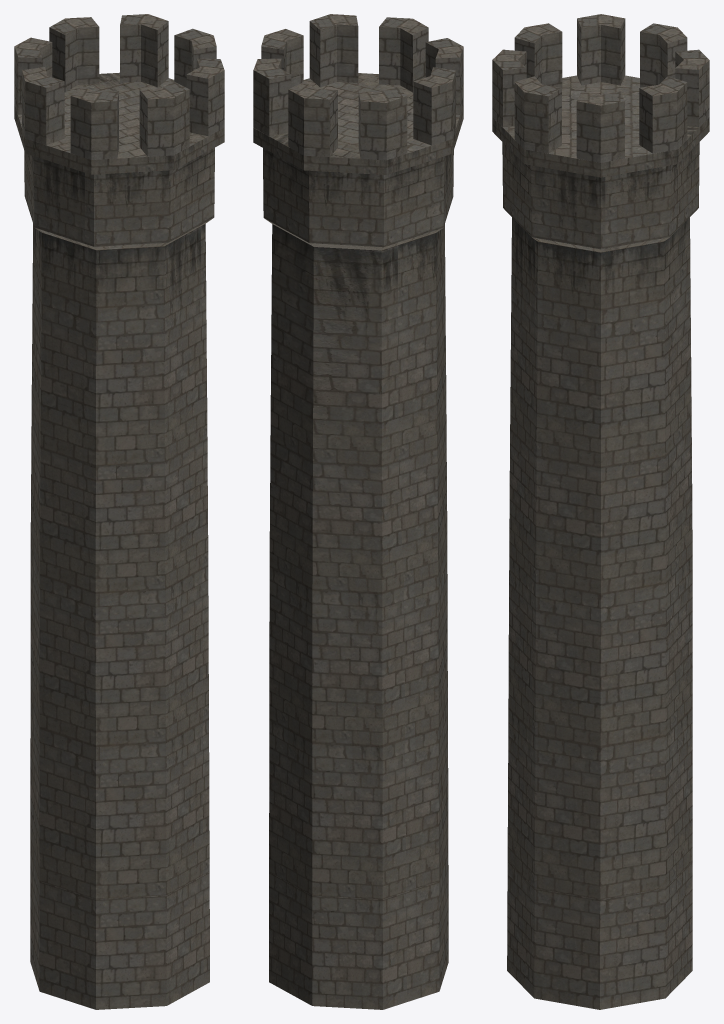
Rendered from Castle_Pillar_02.glb.
3 views of the same model, side by side, from view 1: azimuth 30°, elevation 25°; view 2: azimuth 150°, elevation 25°; view 3: azimuth 270°, elevation 25° (orthographic).
Visible parts, largest first — view 1: SM_Castle_Pillar_02; view 2: SM_Castle_Pillar_02; view 3: SM_Castle_Pillar_02.
Part boxes in pixels (bbox=[...]): SM_Castle_Pillar_02: bbox=[14, 14, 224, 1009]; SM_Castle_Pillar_02: bbox=[253, 14, 463, 1009]; SM_Castle_Pillar_02: bbox=[492, 14, 709, 1009].
Size of the model in its own units: 10.23 by 47.37 by 10.23.
1 material, 1 textured.
